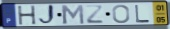H: (16, 5, 38, 26)
J: (38, 4, 57, 27)
L: (134, 4, 152, 23)
M: (60, 4, 86, 25)
O: (112, 4, 131, 24)
Z: (85, 5, 105, 25)
